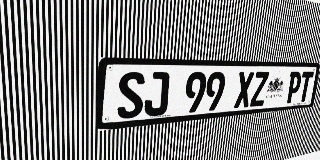9: (184, 72, 207, 113), (204, 72, 226, 111)
J: (144, 72, 170, 117)
P: (285, 72, 303, 103)
S: (117, 72, 145, 119)
T: (297, 72, 314, 102)
X: (234, 72, 254, 108)
Z: (250, 72, 269, 107)
